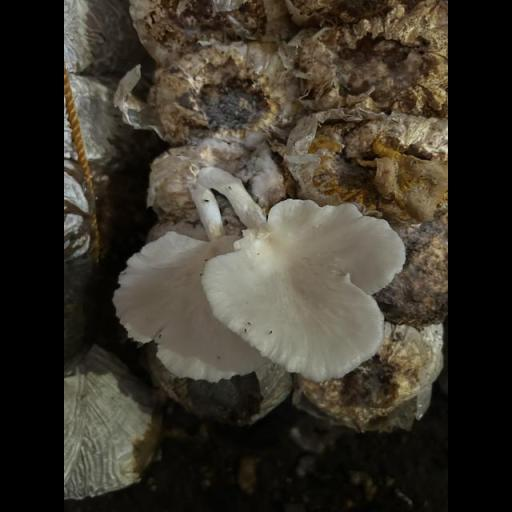Button Mushroom: (111, 165, 402, 392)
